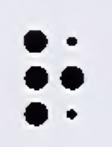one_cell_alphabet_rin: (24, 30, 85, 127)
